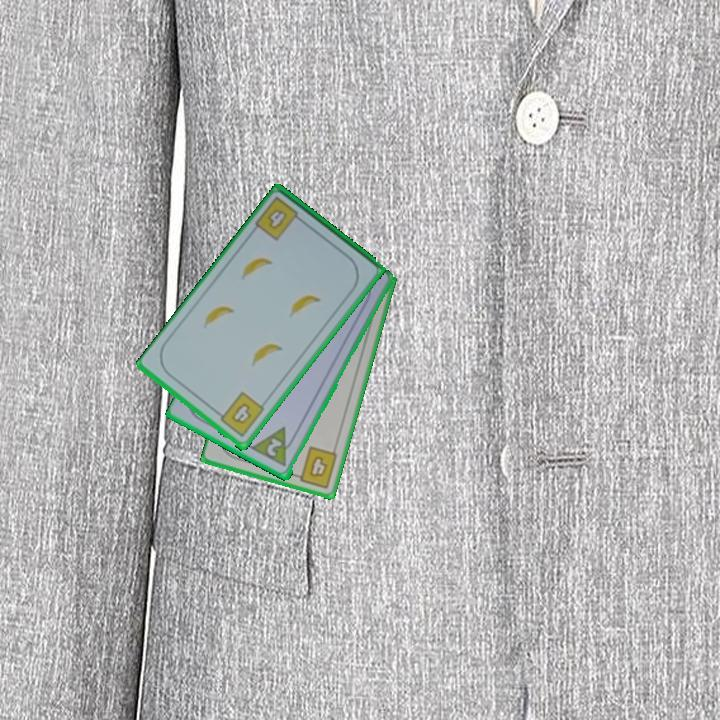2p: (249, 424, 300, 470)
4b: (252, 193, 308, 244), (213, 389, 267, 441), (290, 443, 340, 491)
